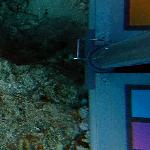dead: (1, 3, 148, 148)
